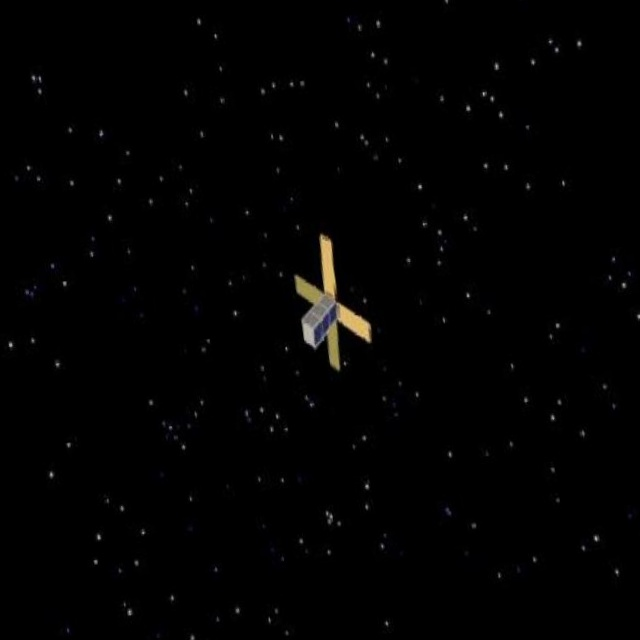satellite: (265, 224, 392, 377)
